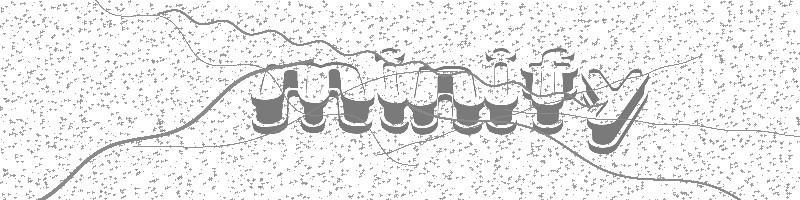f: (528, 39, 578, 146)
i: (487, 43, 521, 139), (377, 47, 409, 138)
m: (252, 53, 377, 140)
n: (415, 61, 487, 142)
y: (581, 62, 649, 155)
